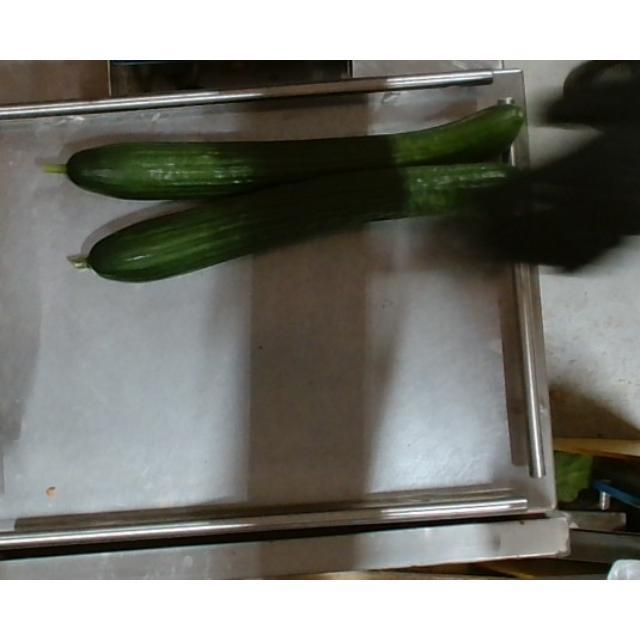cucumber: (74, 164, 542, 284), (45, 105, 528, 201)
